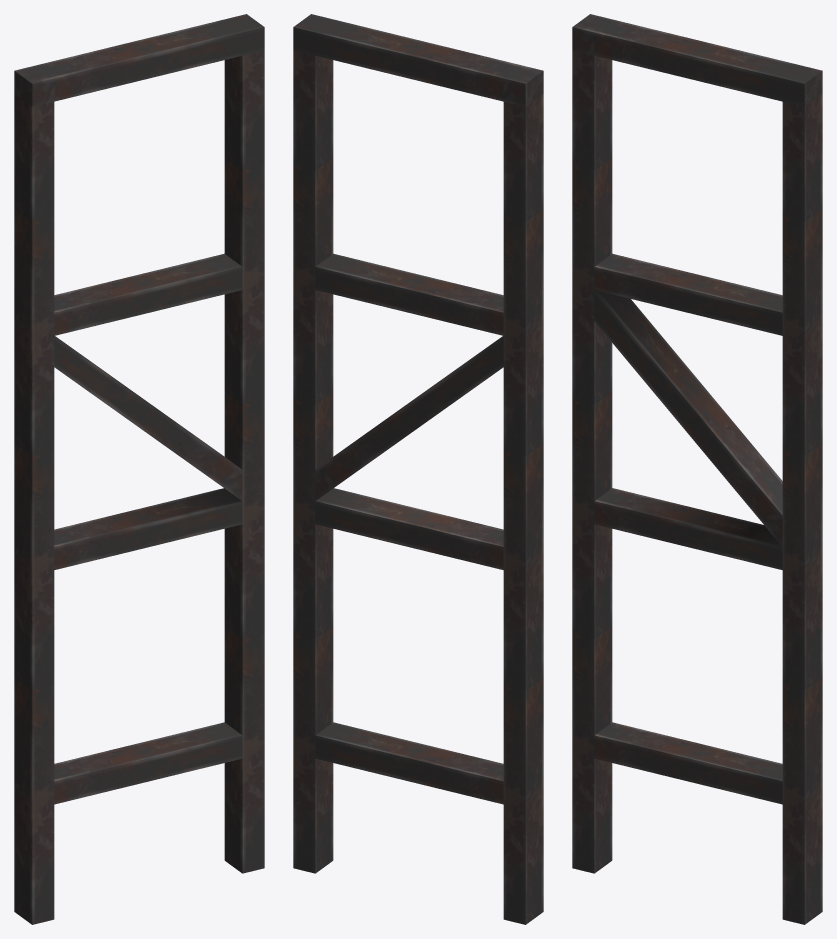
Rendered from pipe03_support03.fbx.
3 views of the same model, side by side, from view 1: azimuth 30°, elevation 25°; view 2: azimuth 150°, elevation 25°; view 3: azimuth 330°, elevation 25° (orthographic).
Visible parts, largest first — view 1: pipe03_support03; view 2: pipe03_support03; view 3: pipe03_support03.
Part boxes in pixels (left/top/right/bottom): pipe03_support03: left=14, top=14, right=264, bottom=924; pipe03_support03: left=293, top=14, right=543, bottom=924; pipe03_support03: left=572, top=14, right=822, bottom=924.
Size of the model in its own units: 51.9 by 180 by 6.95.
